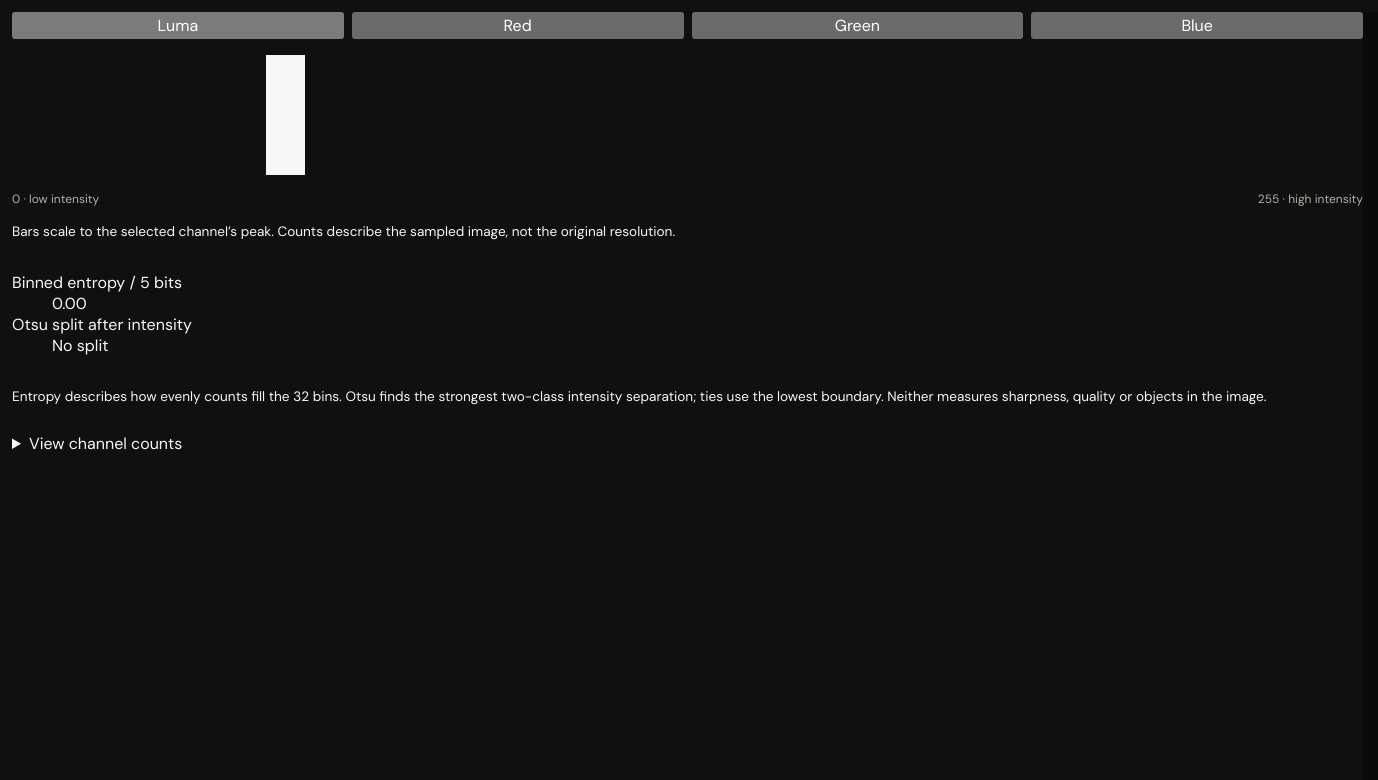
Scenario: switches labelled channels and exposes exact counts without relying on colour
Click the button "Red". click: (518, 26)
box: [352,12,684,39]
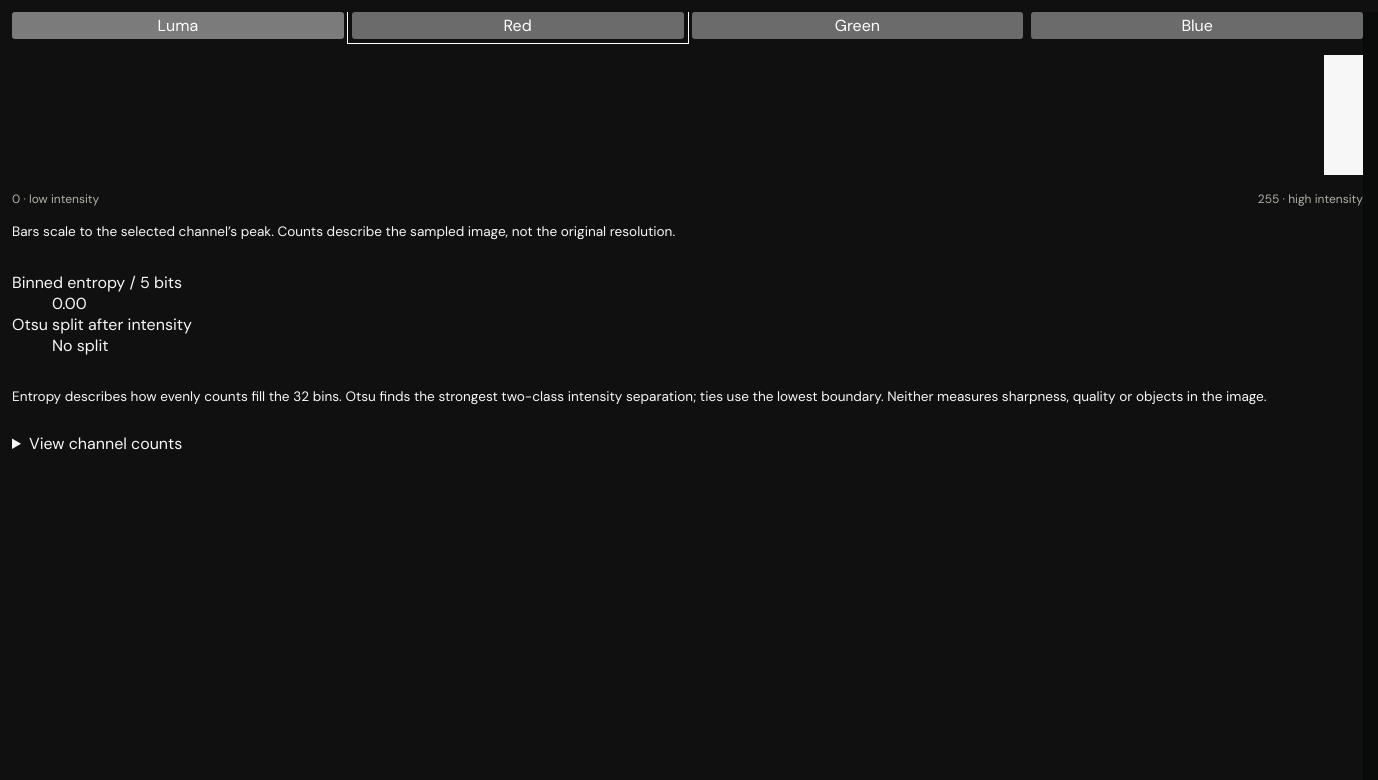
expect the element named "Red distribution statistics" shows "No split": met, box [52,335,108,356]
expect the picture named "Red channel histogram" is shown: met, box [1324,55,1363,175]
Click the heading "View channel counts". click: (106, 444)
box: [29,433,182,454]
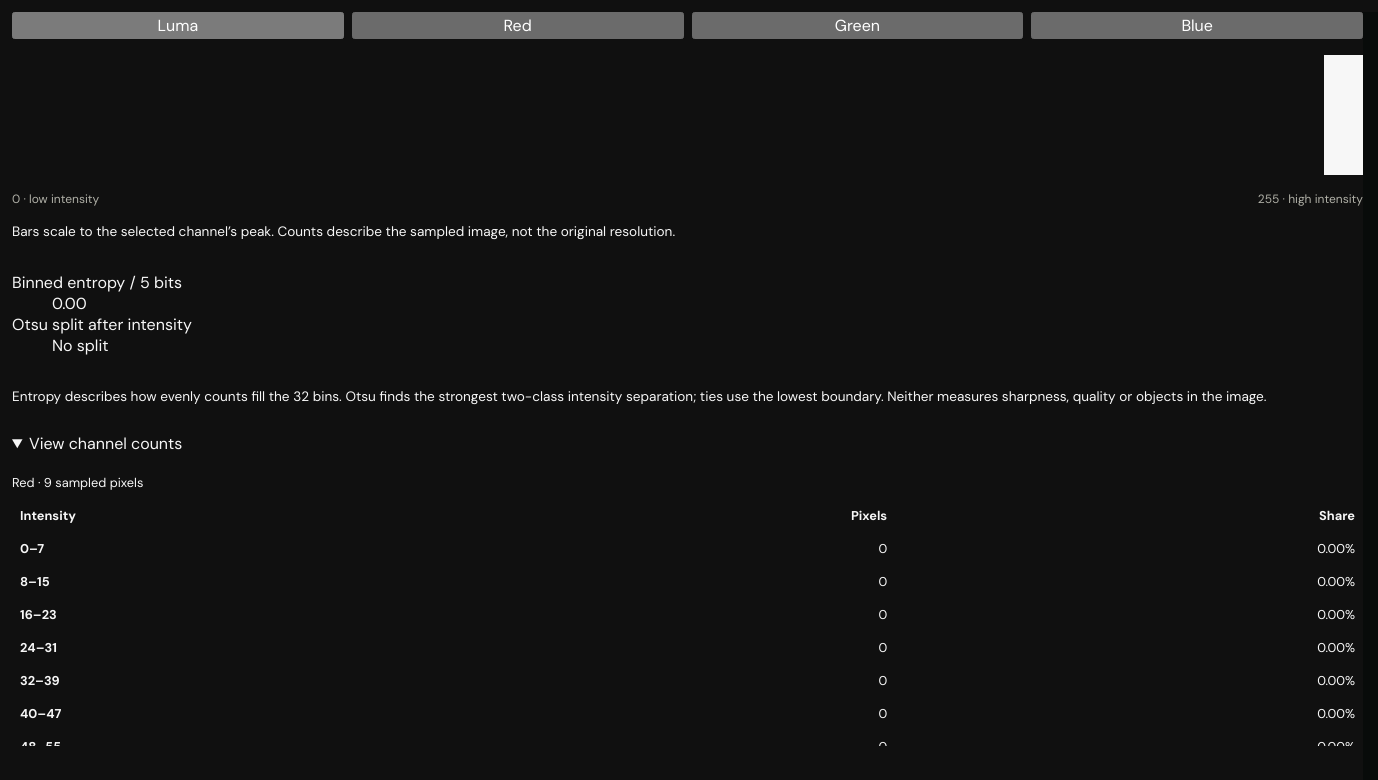
Click the button "Green". click: (857, 26)
box: [692,12,1023,39]
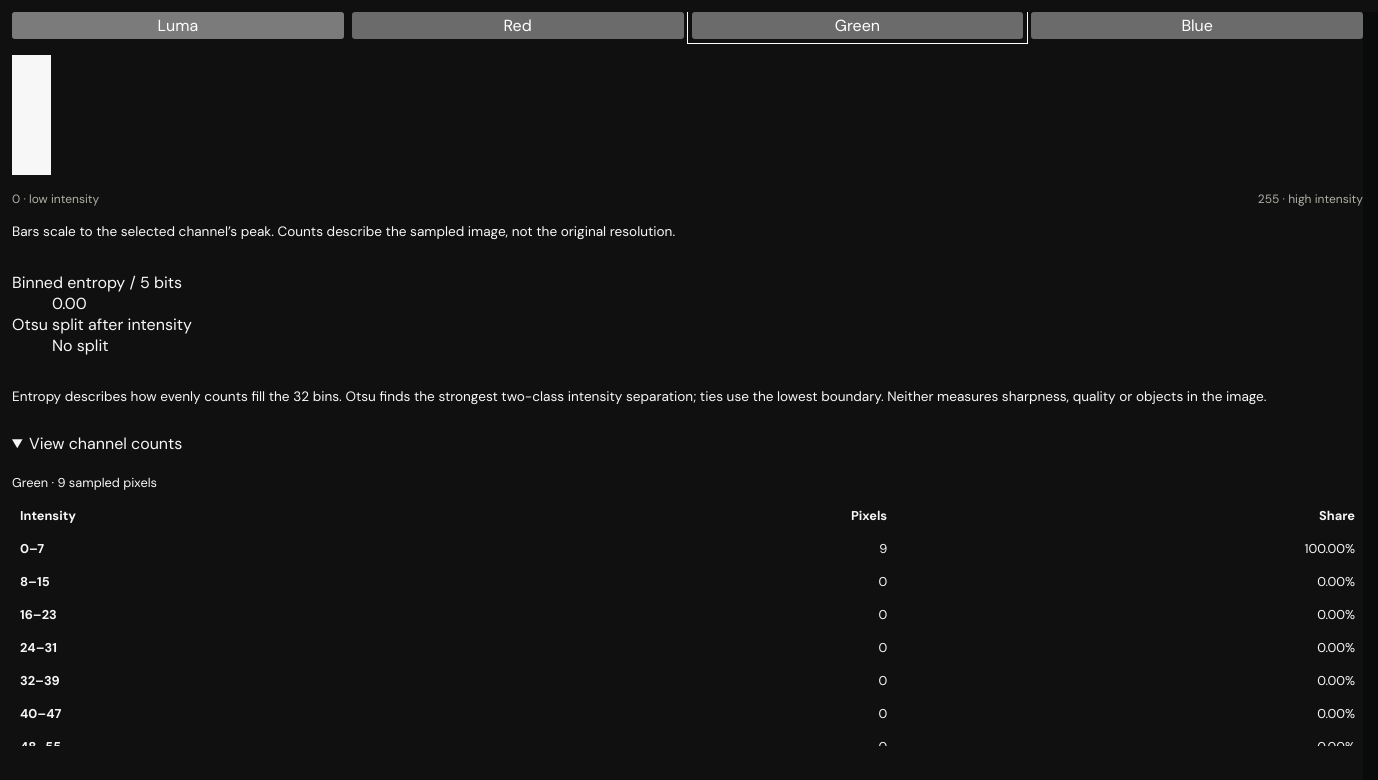
expect the row "0–7 9 100.00%" is shown: met, box [12,532,1363,565]
